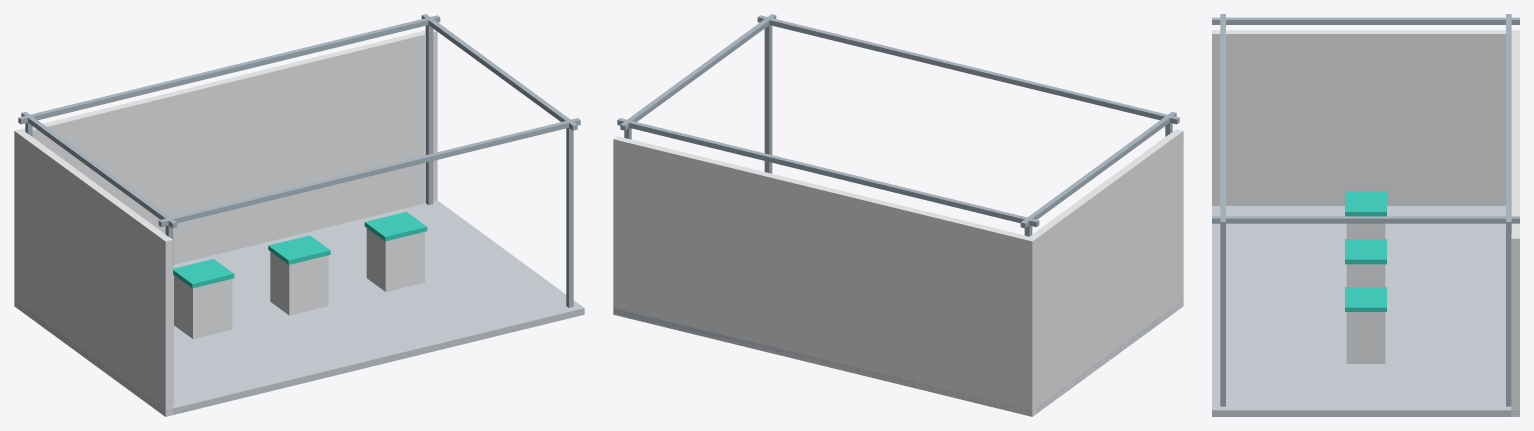
The picture shows the model from 3 angles, left to right: view 1: azimuth 30°, elevation 25°; view 2: azimuth 150°, elevation 25°; view 3: azimuth 270°, elevation 25°; orthographic projection.
Parts seen in each view (by area): view 1: Exhibition Booth Concept; view 2: Exhibition Booth Concept; view 3: Exhibition Booth Concept.
Part boxes in pixels (<box>): Exhibition Booth Concept: <box>14,14,584,416</box>; Exhibition Booth Concept: <box>613,14,1183,416</box>; Exhibition Booth Concept: <box>1212,14,1519,416</box>.
Size of the model in its own units: 8 by 3.49 by 5.
